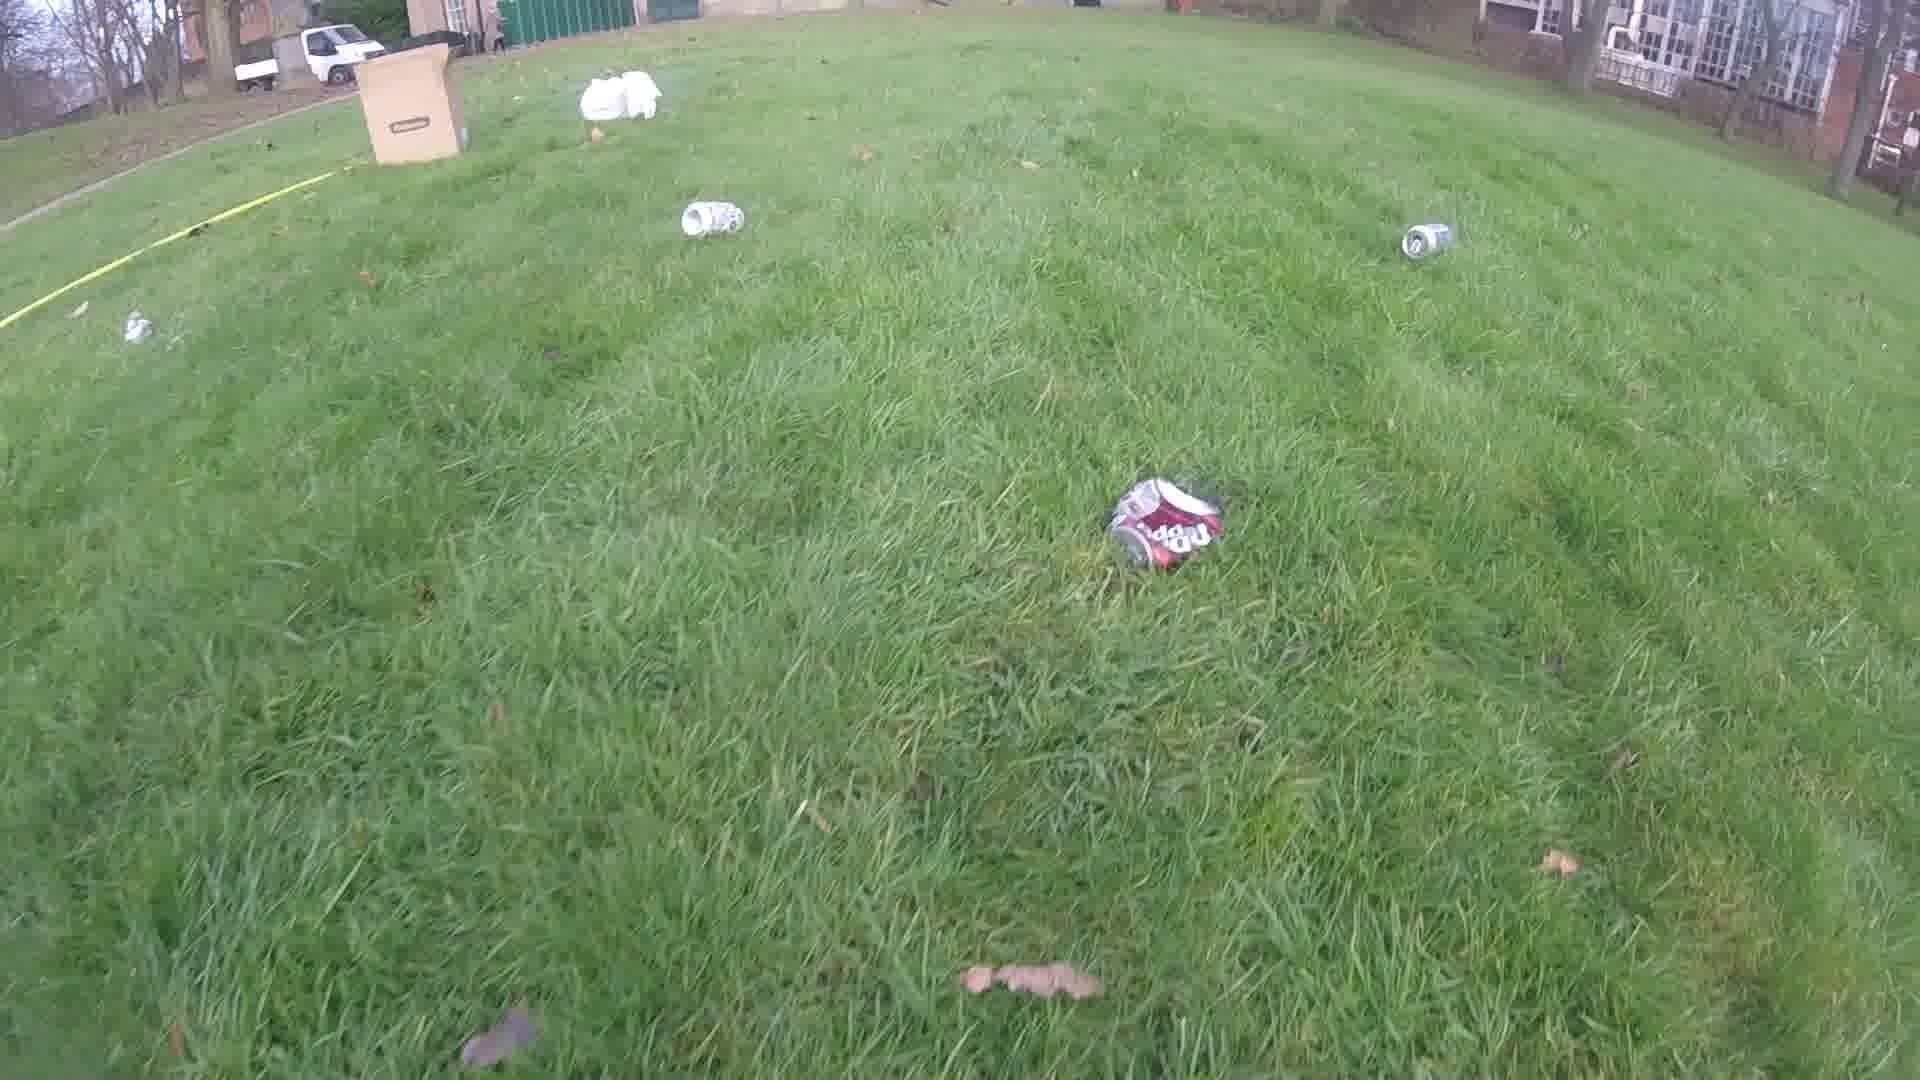litter: (351, 44, 467, 166), (1106, 473, 1222, 568), (576, 70, 659, 125), (676, 198, 742, 237), (1399, 220, 1449, 258), (123, 310, 152, 343)
